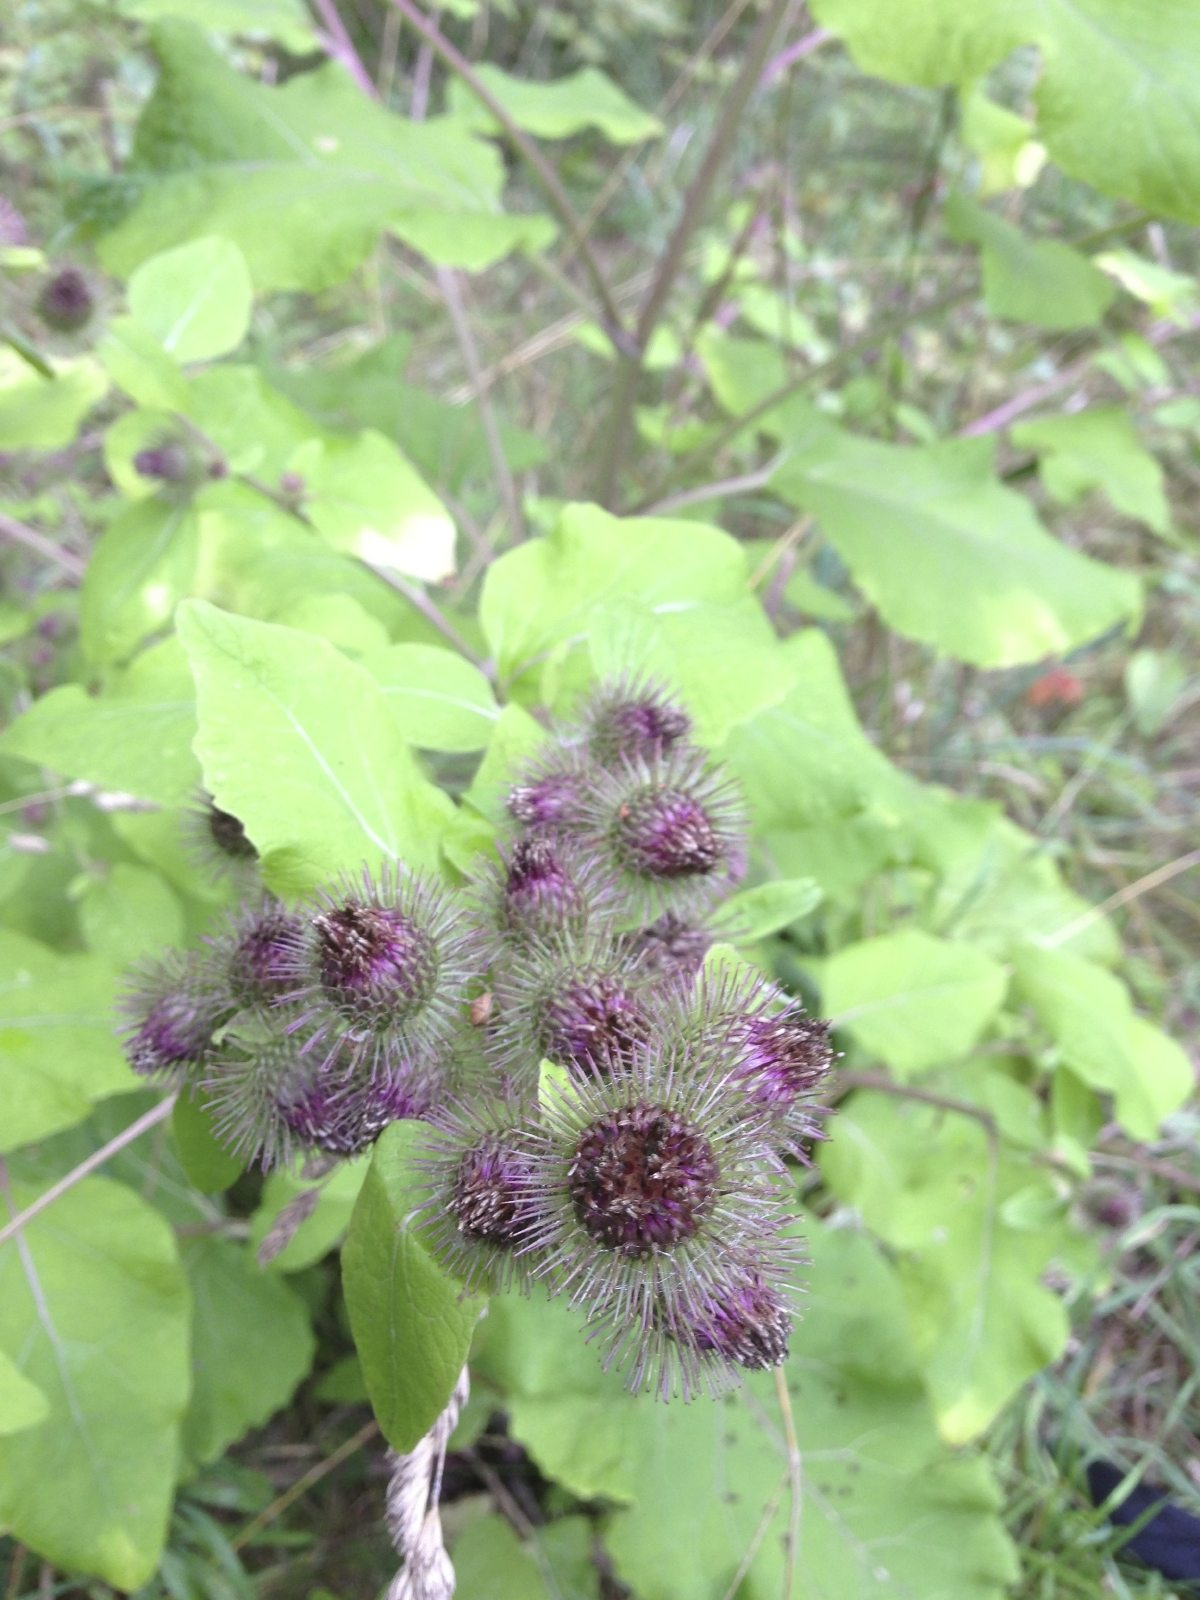thistle: (542, 1062, 766, 1317), (655, 964, 850, 1159), (418, 1085, 574, 1305), (571, 728, 747, 906), (294, 882, 459, 1036), (500, 930, 650, 1054), (111, 957, 233, 1080)
